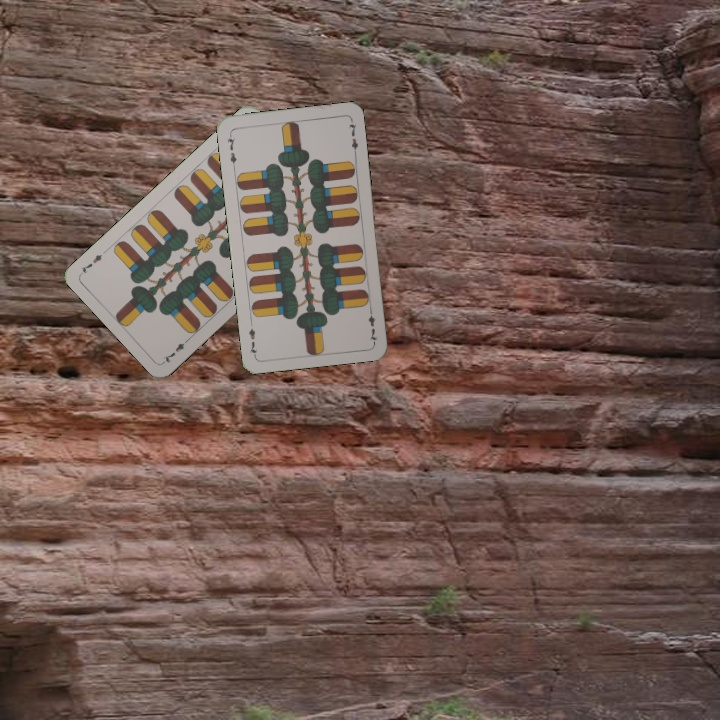E7: (159, 334, 193, 365), (223, 130, 239, 170), (364, 304, 380, 344)
